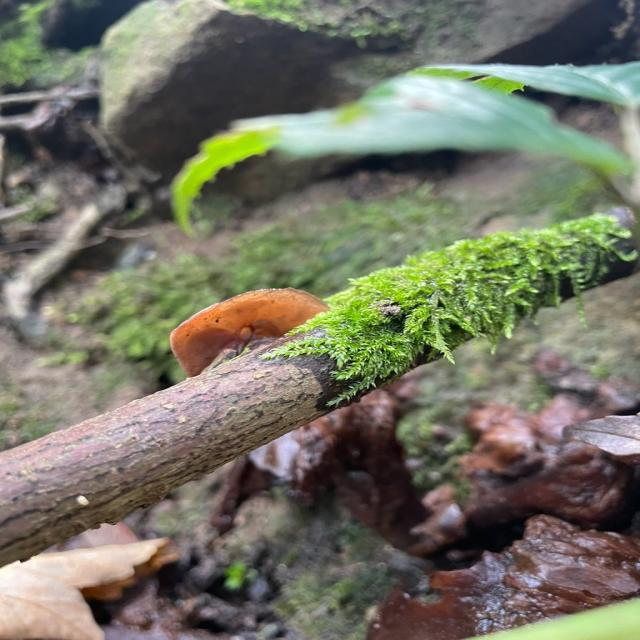Matang: (166, 282, 348, 381)
